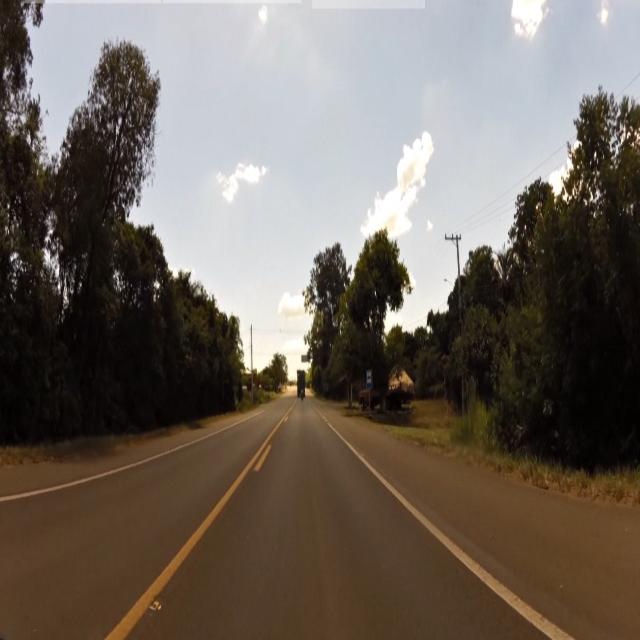S-14: (367, 370, 373, 389)
